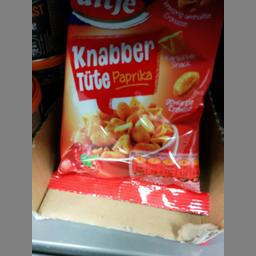nuts: (52, 1, 220, 215)
